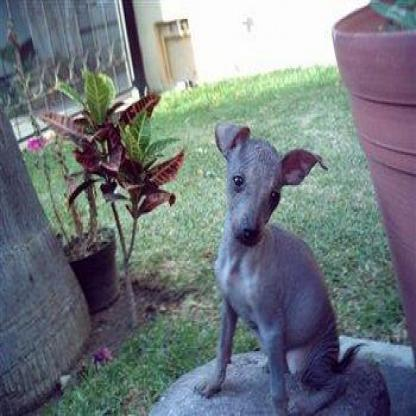Mexican_hairless: (194, 116, 358, 410)
